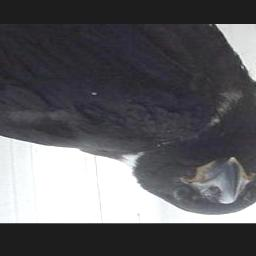Crow: (0, 25, 256, 217)
